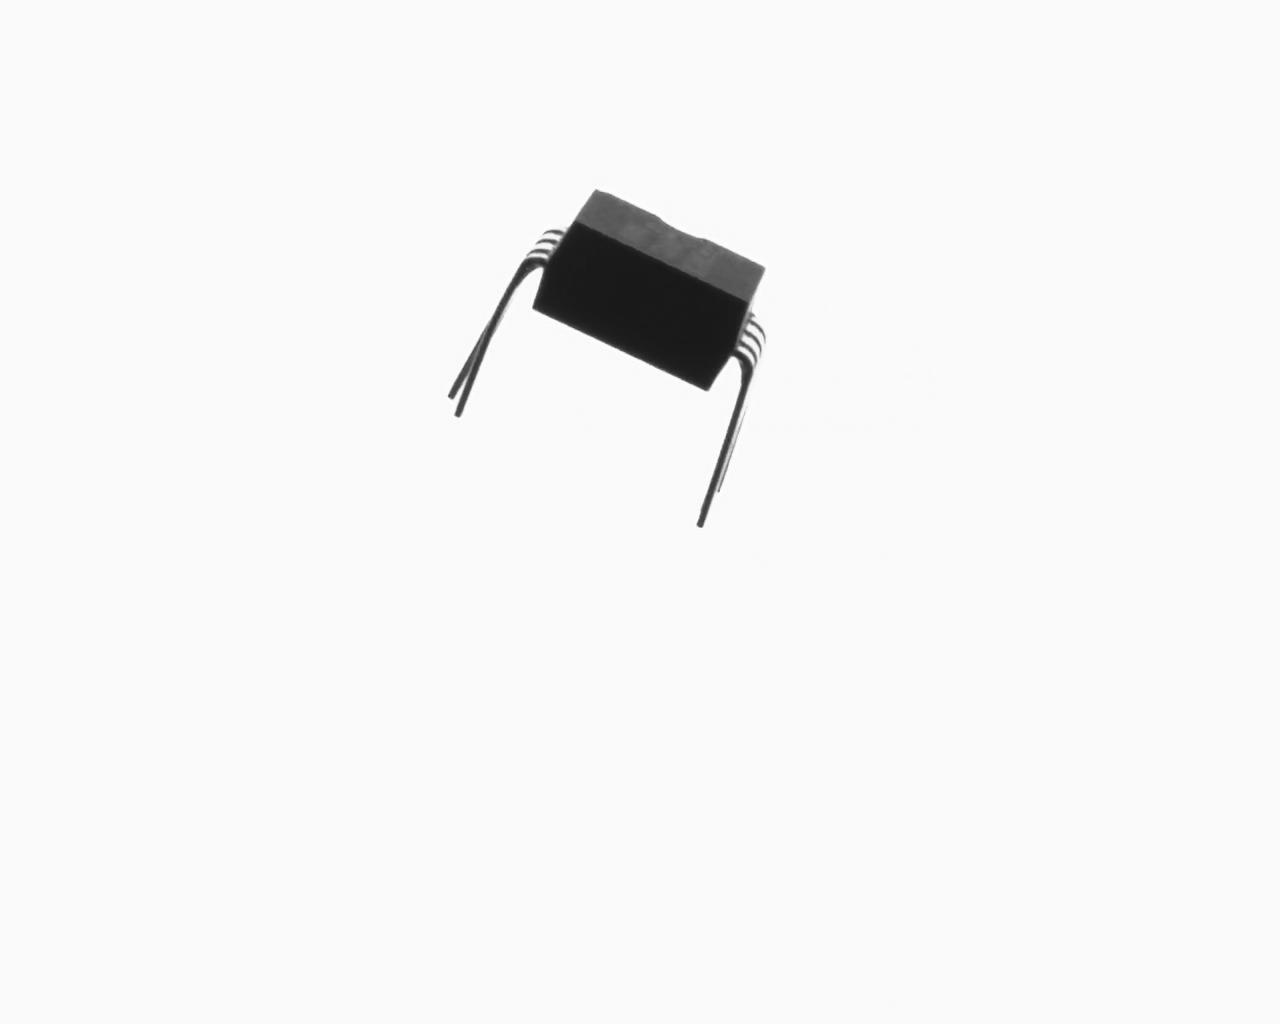Leg: (672, 310, 781, 534), (449, 191, 544, 433)
